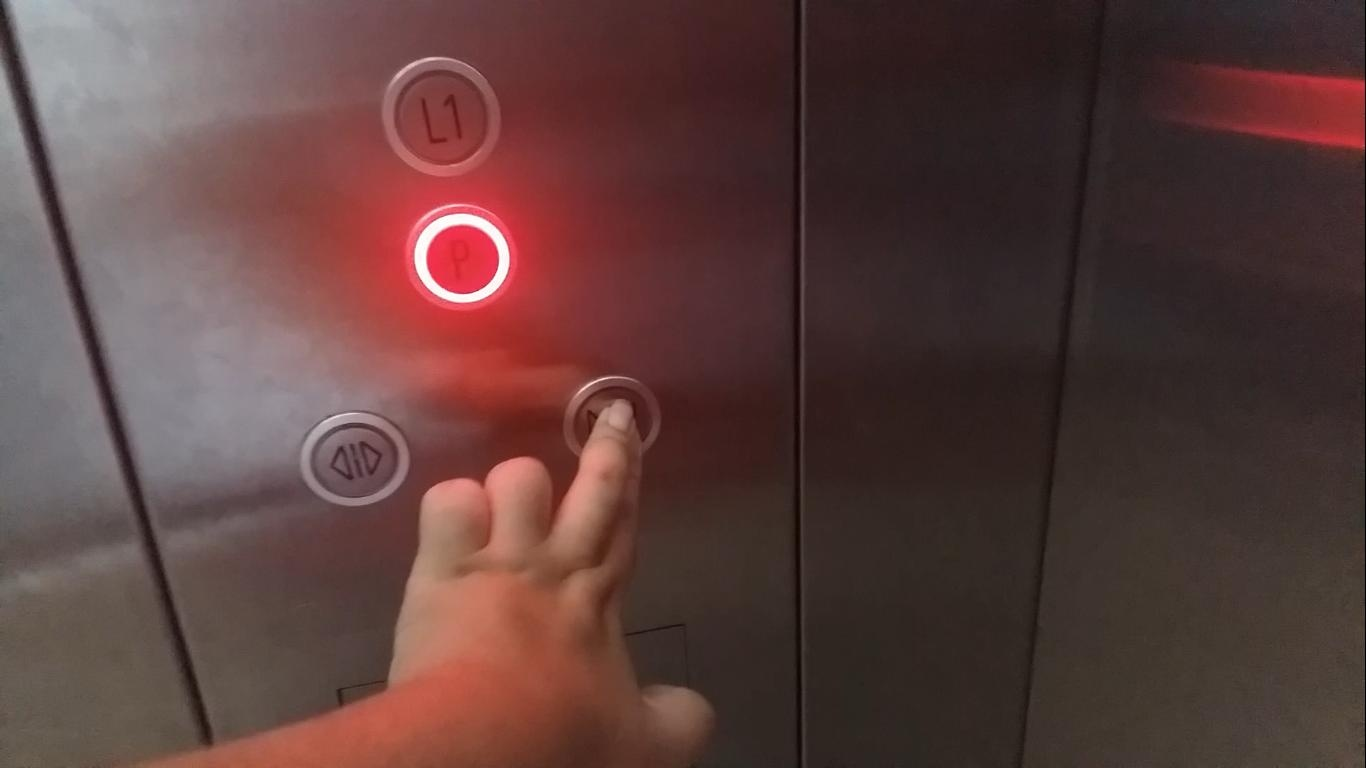L1: (379, 54, 506, 181)
P: (401, 204, 525, 315)
open: (299, 413, 410, 507)
